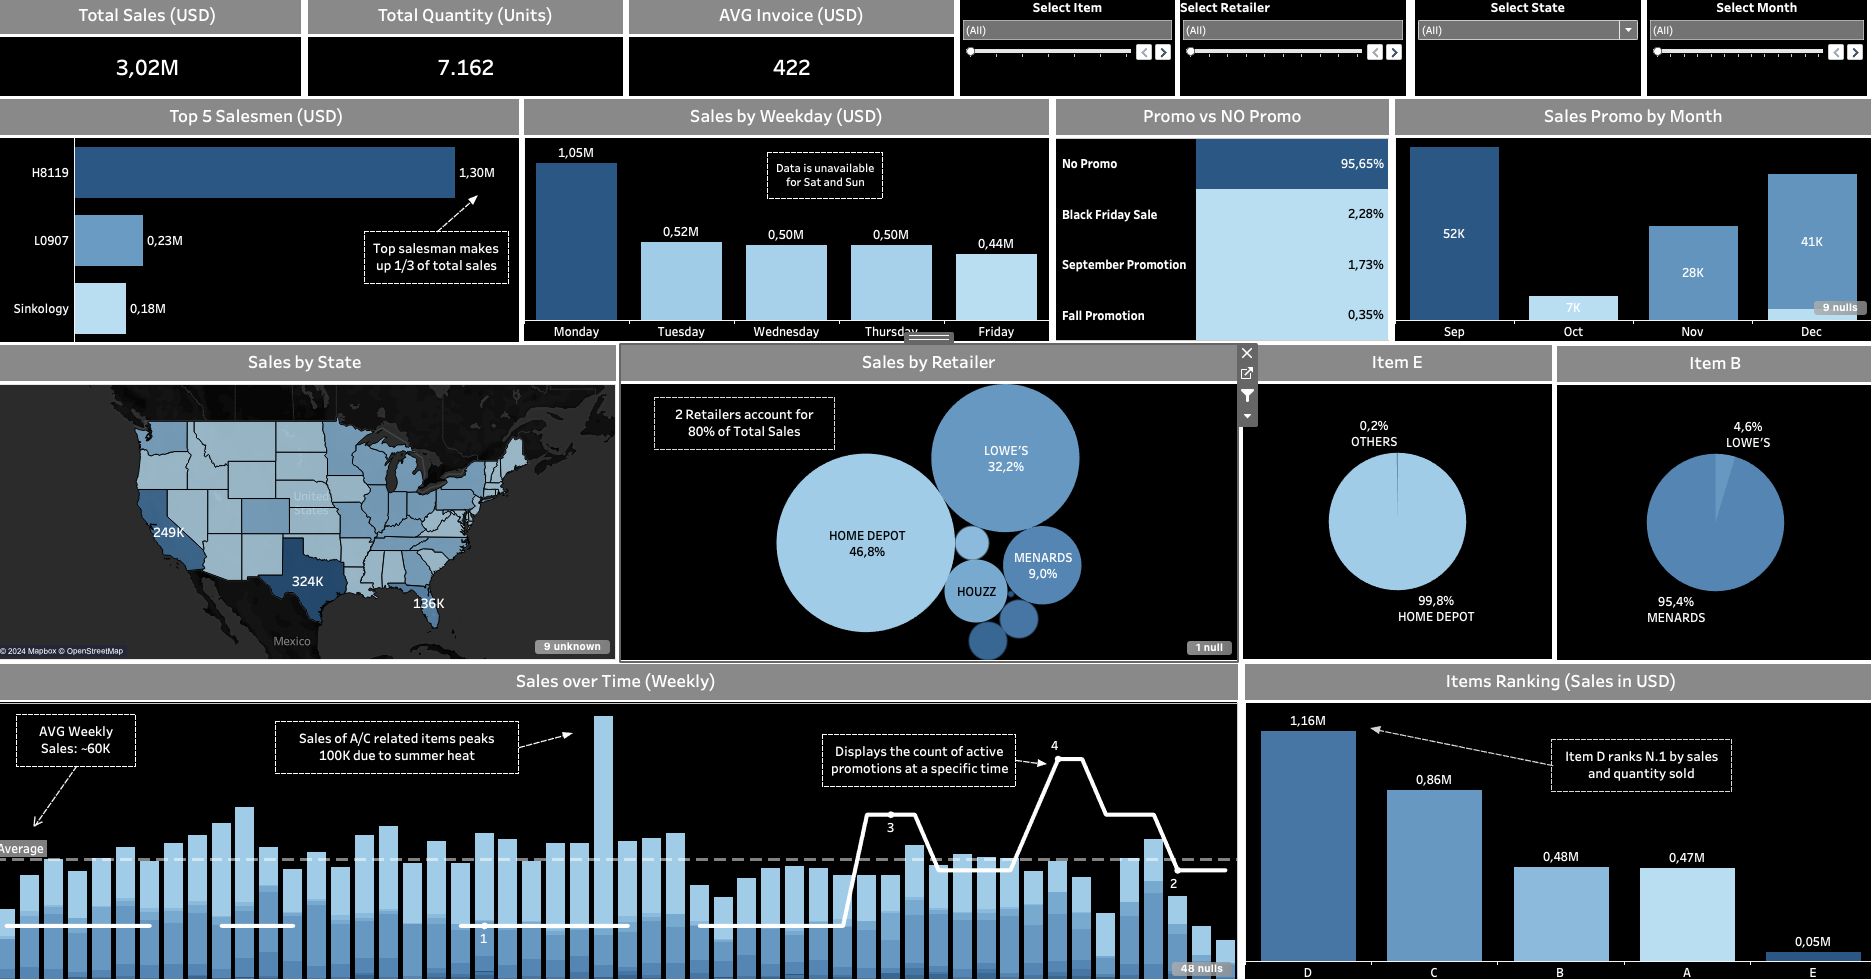

Layout of this report page (visuals, bound fields, positions):
{"tool":"tableau","page":{"name":"Dashboard","canvas":[1000,1000],"units":"permille","ordinal":0},"visuals":[{"type":"worksheet","title":"total sales","mark":"Automatic","box":[0,0,162.1,99]},{"type":"worksheet","title":"total sales (2)","mark":"Automatic","box":[165.5,0,166.4,99]},{"type":"worksheet","title":"total sales (3)","mark":"Text","box":[335.3,0,171.5,99]},{"type":"filter","title":"item rank by sales","param":"[federated.0egopbv04tg5wa1bguw981wyhast].[none:Calculation_3773805442979069953:n","box":[510.2,0,113.5,99]},{"type":"filter","title":"sales by retailers","param":"[federated.0egopbv04tg5wa1bguw981wyhast].[none:Name:nk]","box":[626.3,0,119.5,99]},{"type":"filter","title":"sales by state","param":"[federated.0egopbv04tg5wa1bguw981wyhast].[none:Ship To State:nk]","box":[750,0,119.5,99]},{"type":"filter","title":"promotion sales by month","param":"[federated.0egopbv04tg5wa1bguw981wyhast].[none:Calculation_4421549733512548354:n","box":[872.9,0,116,99]},{"type":"worksheet","title":"Top 3 Salesmen","mark":"Automatic","rows":["Sales Rep ID"],"cols":["Total Amnt Recvd"],"box":[0,102.7,277.3,246.3]},{"type":"worksheet","title":"Sales by Weekday","mark":"Bar","rows":["Total Amnt Recvd"],"cols":["Date"],"box":[279.9,102.7,277.3,245.1]},{"type":"worksheet","title":"Promo vs NO Promo","mark":"Square","rows":["Promotion (Promotional Data1)"],"box":[560.6,102.7,175.8,245.1]},{"type":"worksheet","title":"promotion sales by month","mark":"Bar","rows":["Total Amnt Recvd"],"cols":["Calculation_4421549733512548354"],"box":[739.8,102.7,251.8,245.1]},{"type":"worksheet","title":"sales by state","mark":"Automatic","box":[0,351.5,328.5,319.3]},{"type":"worksheet","title":"sales by retailers","mark":"Circle","box":[331.1,351.5,325.1,319.3]},{"type":"worksheet","title":"K123E by retailer","mark":"Pie","box":[659.6,351.5,163.4,318.1]},{"type":"worksheet","title":"K123B by retailer","mark":"Pie","box":[825.3,352.7,167.6,318.1]},{"type":"worksheet","title":"sales over time (2)","mark":"Line","rows":["Total Amnt Recvd","Active"],"cols":["Date"],"box":[0,674.5,657,321.8]},{"type":"worksheet","title":"item rank by sales","mark":"Automatic","rows":["Total Amnt Recvd"],"cols":["Calculation_3773805442979069953"],"box":[660.4,674.5,333.6,321.8]}]}

Visuals, with their boxes on the dashboard's canvas, which has no fixed pixel size, in thousandths of its width and height (x1, y1, x2, y2). These are canvas units, not pixel positions in the 1871x979 screenshot, which may show the page scaled, cropped or inside an application window:
"total sales" worksheet: BBox(0, 0, 162, 99)
"total sales (2)" worksheet: BBox(166, 0, 332, 99)
"total sales (3)" worksheet (Text marks): BBox(335, 0, 507, 99)
"item rank by sales" filter: BBox(510, 0, 624, 99)
"sales by retailers" filter: BBox(626, 0, 746, 99)
"sales by state" filter: BBox(750, 0, 870, 99)
"promotion sales by month" filter: BBox(873, 0, 989, 99)
"Top 3 Salesmen" worksheet: BBox(0, 103, 277, 349)
"Sales by Weekday" worksheet (Bar marks): BBox(280, 103, 557, 348)
"Promo vs NO Promo" worksheet (Square marks): BBox(561, 103, 736, 348)
"promotion sales by month" worksheet (Bar marks): BBox(740, 103, 992, 348)
"sales by state" worksheet: BBox(0, 352, 328, 671)
"sales by retailers" worksheet (Circle marks): BBox(331, 352, 656, 671)
"K123E by retailer" worksheet (Pie marks): BBox(660, 352, 823, 670)
"K123B by retailer" worksheet (Pie marks): BBox(825, 353, 993, 671)
"sales over time (2)" worksheet (Line marks): BBox(0, 674, 657, 996)
"item rank by sales" worksheet: BBox(660, 674, 994, 996)
